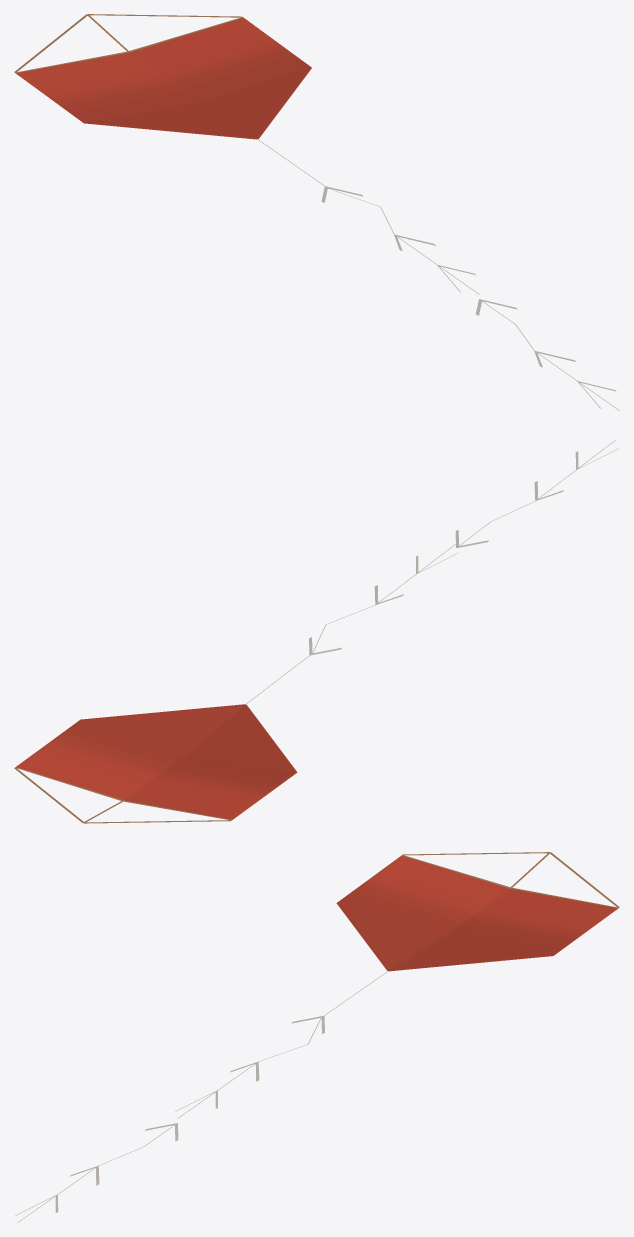
Rendered from Pipa_02.fbx.
3 renders of one model, top to bottom at view 1: azimuth 30°, elevation 25°; view 2: azimuth 150°, elevation 25°; view 3: azimuth 330°, elevation 25°, orthographic. The views are drawn at different scales.
Parts seen in each view (by area): view 1: Pipa_02; view 2: Pipa_02; view 3: Pipa_02.
Part boxes in pixels (left/top/right/bottom): Pipa_02: left=14, top=14, right=619, bottom=410; Pipa_02: left=14, top=439, right=618, bottom=823; Pipa_02: left=15, top=852, right=619, bottom=1222.
Bounding box in the file's own units: 50.91 × 2.97 × 211.
